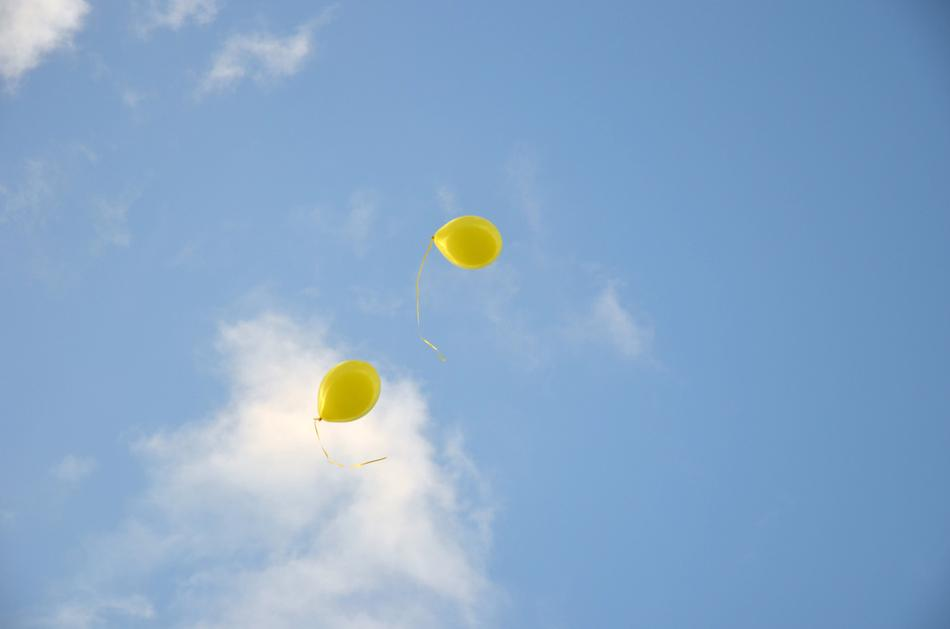Balloon: (314, 359, 382, 424), (432, 215, 505, 270)
